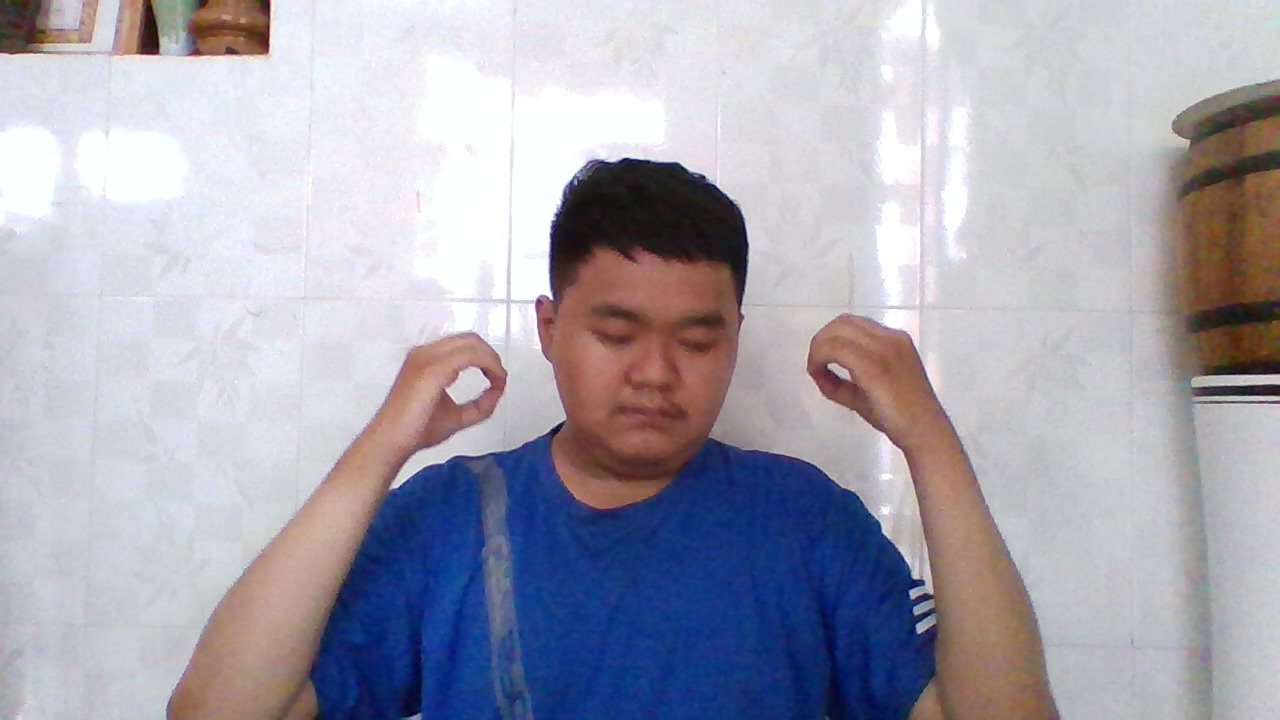O: (799, 299, 945, 456), (374, 319, 517, 461)
